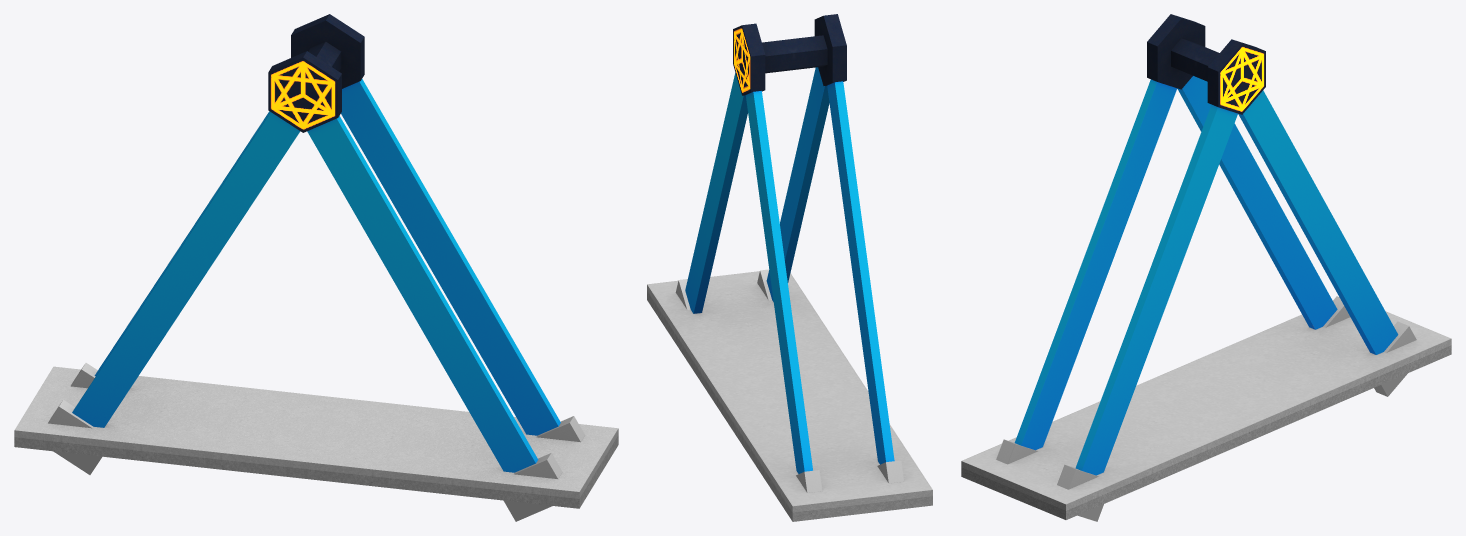
Rendered from 3P_FerrisSupport.glb.
3 views of the same model, side by side, from view 1: azimuth 30°, elevation 25°; view 2: azimuth 150°, elevation 25°; view 3: azimuth 270°, elevation 25° (orthographic). The views are drawn at different scales.
Parts seen in each view (by area): view 1: FerrisWheel; view 2: FerrisWheel; view 3: FerrisWheel.
Boxes of the visible parts, x1,y1,x2,y2 form: FerrisWheel: (14, 14, 618, 521); FerrisWheel: (647, 14, 932, 521); FerrisWheel: (961, 14, 1451, 521).
Bounding box in the file's own units: 6.32 × 5.86 × 6.26.
Materials: 1 (1 with a texture image).
